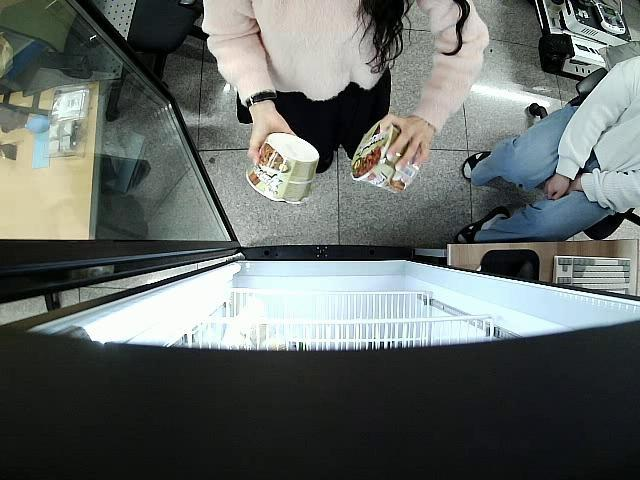03_chapagetti_L: (247, 132, 320, 203), (352, 121, 421, 194)
